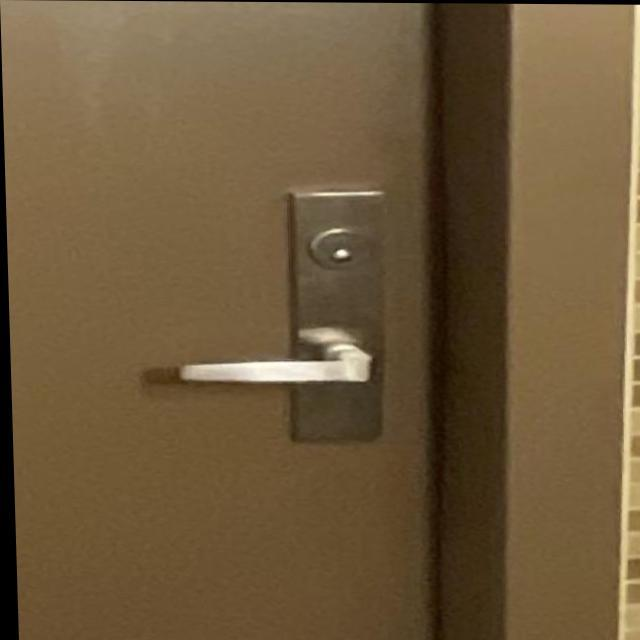door_handle: (145, 325, 399, 398)
